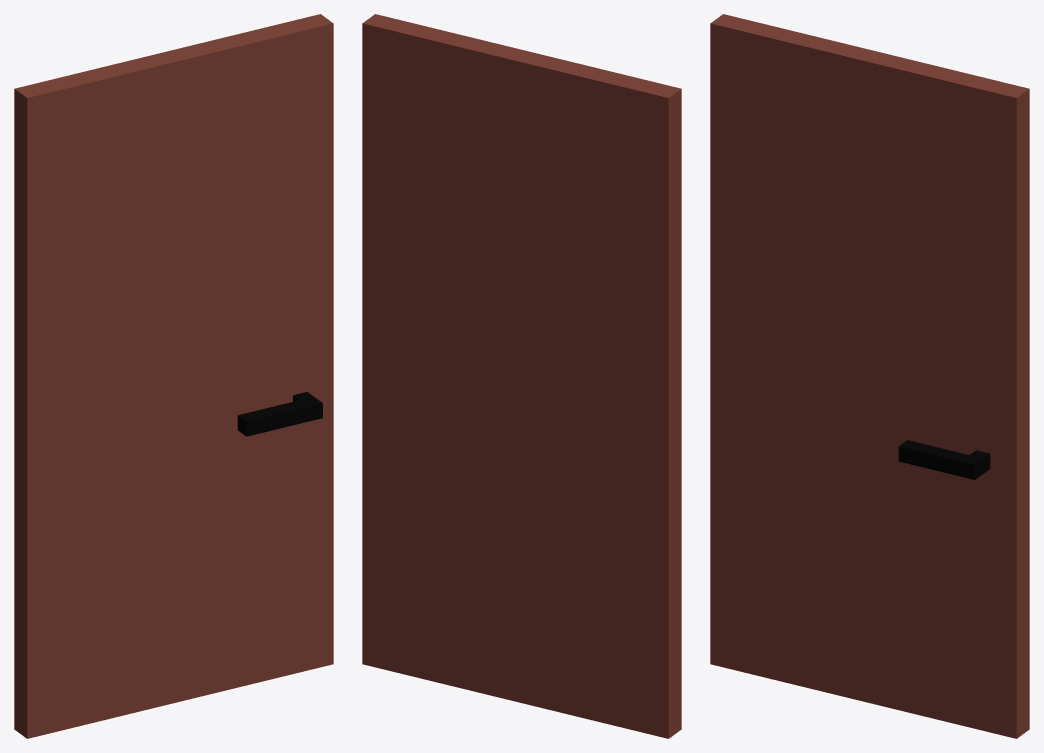
The model's file is door.glb.
3 renders of one model, left to right at view 1: azimuth 30°, elevation 25°; view 2: azimuth 150°, elevation 25°; view 3: azimuth 330°, elevation 25°, orthographic.
Visible parts, largest first — view 1: Cube.035; view 2: Cube.035; view 3: Cube.035.
Part boxes in pixels (box(x1,y1,x2,y2)): Cube.035: box(14, 14, 333, 738); Cube.035: box(362, 14, 681, 738); Cube.035: box(710, 14, 1029, 738).
Bounding box in the file's own units: 1 × 2 × 0.1606.
